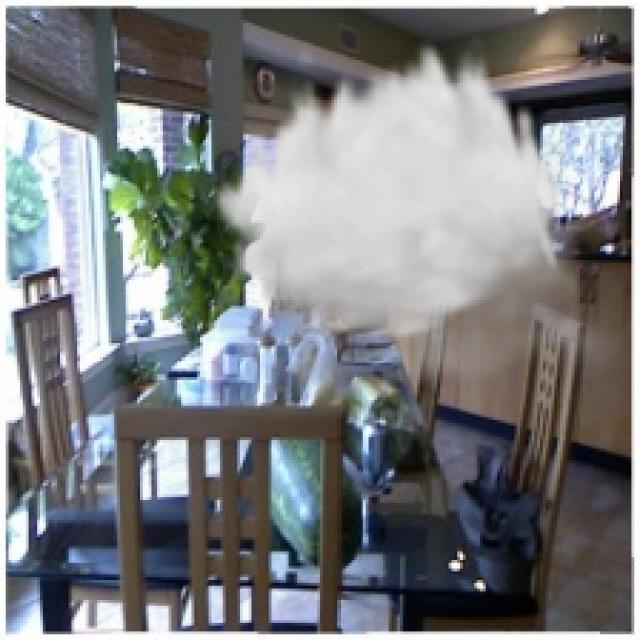smoke: (212, 34, 637, 414)
